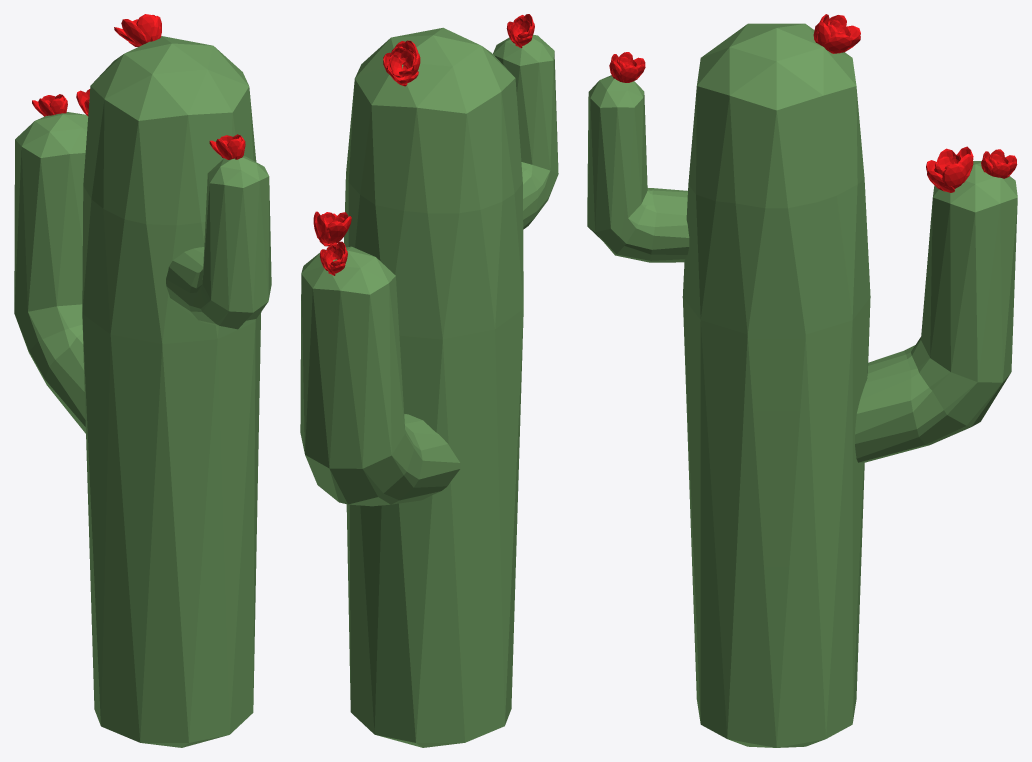
The model's file is Cactus_V02.fbx.
3 views of the same model, side by side, from view 1: azimuth 30°, elevation 25°; view 2: azimuth 150°, elevation 25°; view 3: azimuth 270°, elevation 25° (orthographic). The views are drawn at different scales.
Visible parts, largest first — view 1: Cactus_V02; view 2: Cactus_V02; view 3: Cactus_V02.
Part boxes in pixels (box(x1,y1,x2,y2)): Cactus_V02: box(14, 14, 271, 747); Cactus_V02: box(300, 14, 558, 747); Cactus_V02: box(587, 14, 1017, 747).
Bounding box in the file's own units: 33.97 × 150 × 81.35.
